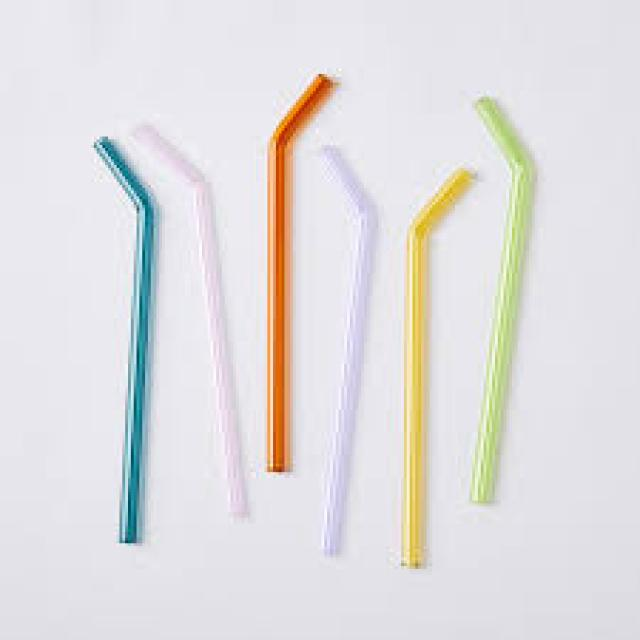straw: (136, 125, 244, 518), (401, 168, 472, 568), (470, 96, 535, 502), (268, 74, 334, 471), (94, 136, 155, 543), (321, 144, 378, 554)
